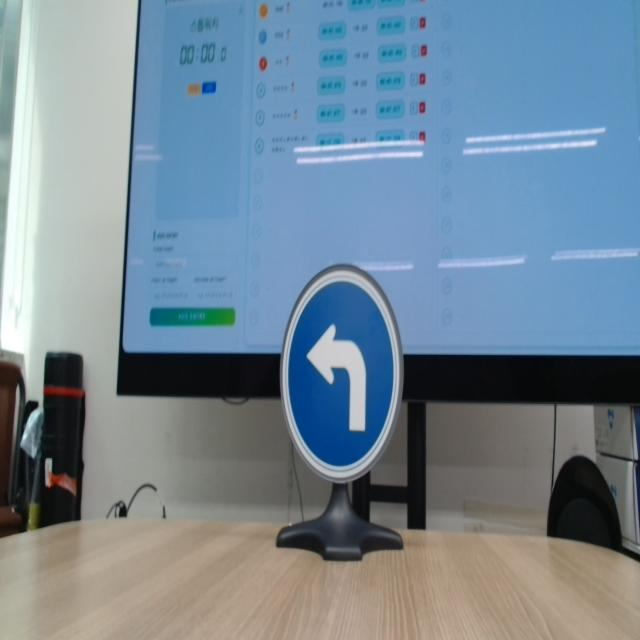left_direction: (275, 257, 408, 485)
